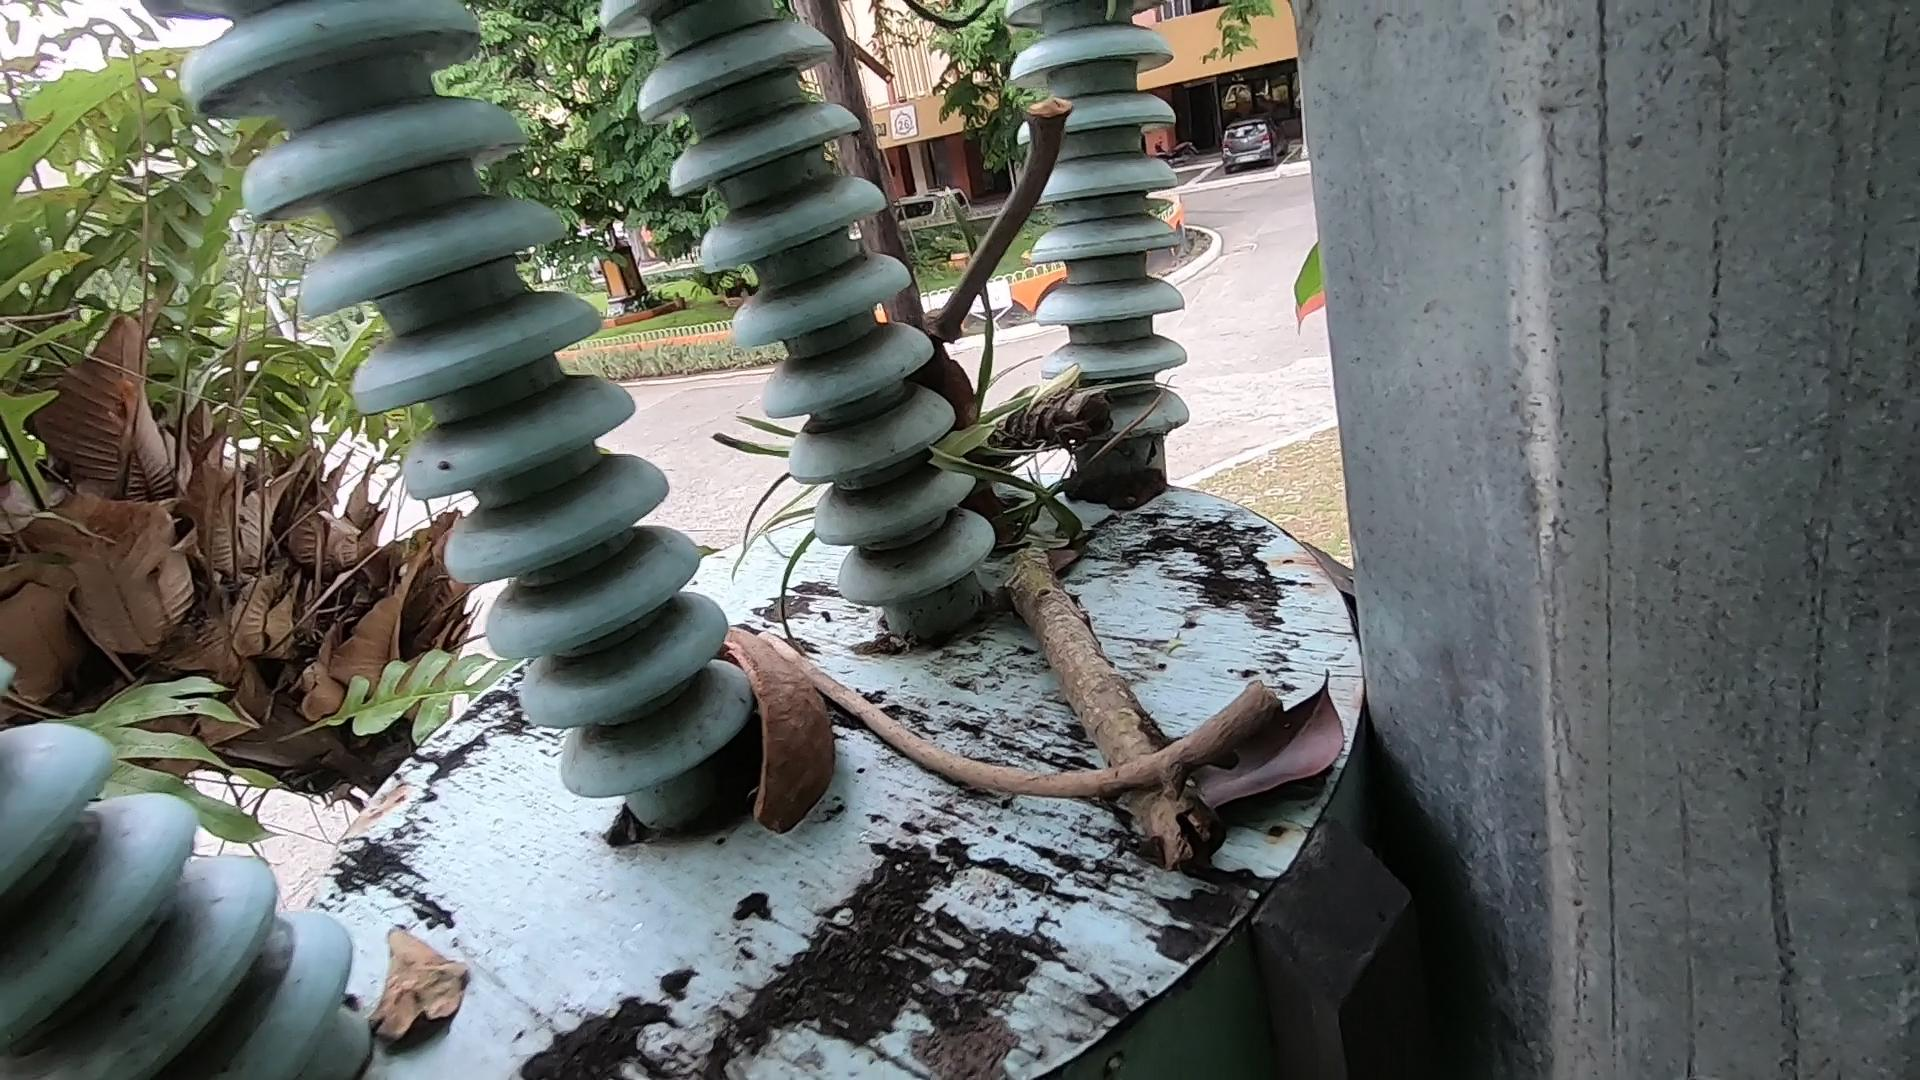branch with leaves: (881, 324, 1341, 915)
leaf: (291, 886, 651, 1080)
mahogany fruit: (897, 332, 1085, 621), (702, 601, 874, 872)
tree branch: (829, 1, 1170, 415), (756, 601, 1273, 872)
